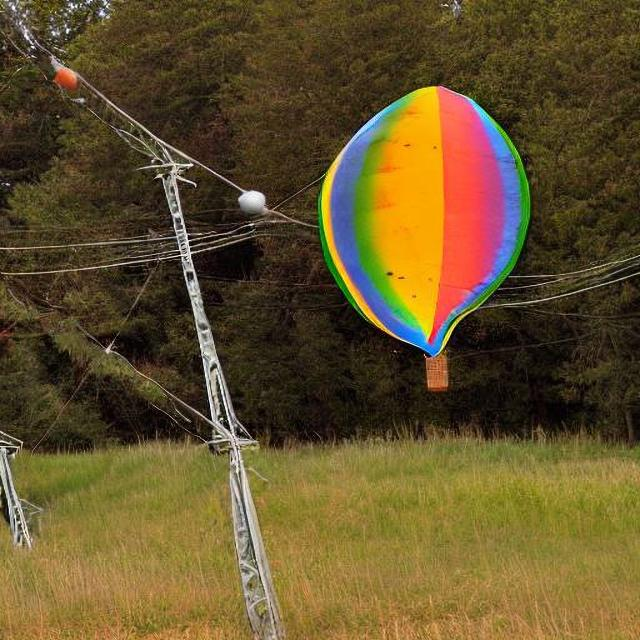balloon: (314, 83, 537, 362)
